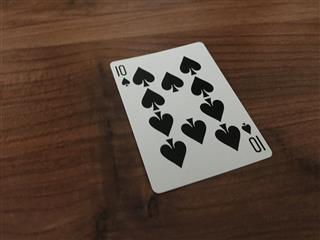TenOfSpades: (108, 40, 272, 194)
